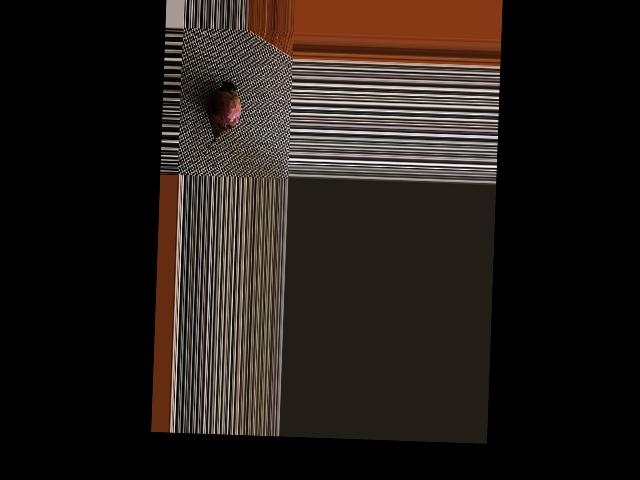beet: (191, 77, 241, 166)
